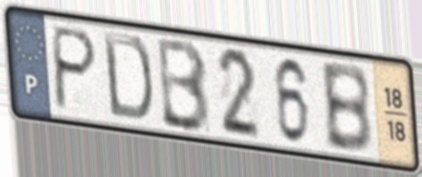2: (215, 45, 263, 144)
6: (272, 54, 313, 146)
B: (156, 35, 213, 136), (317, 61, 375, 158)
D: (100, 28, 155, 125)
P: (51, 22, 100, 114)
